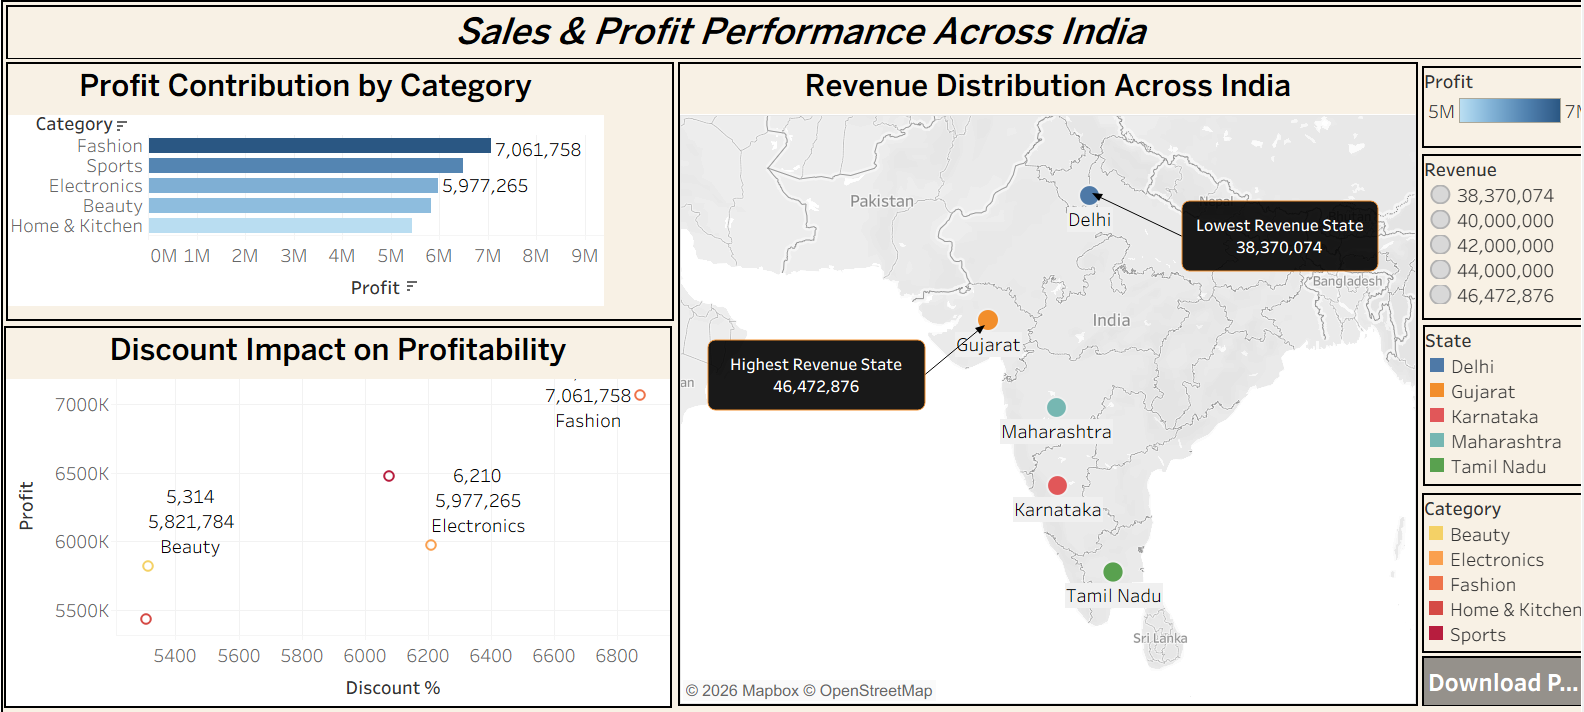

The dashboard page shown, as its layout file describes it:
{"tool":"tableau","page":{"name":"Dashboard 2","canvas":[1000,1000],"units":"permille","ordinal":1},"visuals":[{"type":"text","box":[8,17.4,982.7,75]},{"type":"worksheet","title":"Profit by Category","mark":"Automatic","rows":["Category"],"cols":["Profit"],"box":[8,95.9,412.4,354.8]},{"type":"worksheet","title":"Sales by State","mark":"Automatic","box":[422.8,96.4,456.8,882.2]},{"type":"legend","title":"Profit by Category","param":"[federated.1a9c4js00jwry112yuas218mgewn].[sum:Profit:qk]","box":[882.1,101.7,109.3,112.5]},{"type":"legend","title":"Sales by State","param":"[federated.1a9c4js00jwry112yuas218mgewn].[sum:Revenue:qk]","box":[882.1,222.2,109.3,227.6]},{"type":"legend","title":"Sales by State","param":"[federated.1a9c4js00jwry112yuas218mgewn].[none:State:nk]","box":[882.7,456.5,108,220.9]},{"type":"worksheet","title":"Discount vs Profit","mark":"Automatic","rows":["Profit"],"cols":["Discount_%"],"box":[6.8,457.5,412.4,523.3]},{"type":"legend","title":"Discount vs Profit","param":"[federated.1a9c4js00jwry112yuas218mgewn].[none:Category:nk]","box":[882.1,686.8,108.6,219.5]},{"type":"dashboard-object","box":[882.1,909,108,69.6]}]}

Visuals, with their boxes on the dashboard's canvas, which has no fixed pixel size, in thousandths of its width and height (x1, y1, x2, y2). These are canvas units, not pixel positions in the 1584x712 screenshot, which may show the page scaled, cropped or inside an application window:
text: left=8, top=17, right=991, bottom=92
"Profit by Category" worksheet: left=8, top=96, right=420, bottom=451
"Sales by State" worksheet: left=423, top=96, right=880, bottom=979
"Profit by Category" legend: left=882, top=102, right=991, bottom=214
"Sales by State" legend: left=882, top=222, right=991, bottom=450
"Sales by State" legend: left=883, top=456, right=991, bottom=677
"Discount vs Profit" worksheet: left=7, top=458, right=419, bottom=981
"Discount vs Profit" legend: left=882, top=687, right=991, bottom=906
dashboard-object: left=882, top=909, right=990, bottom=979
